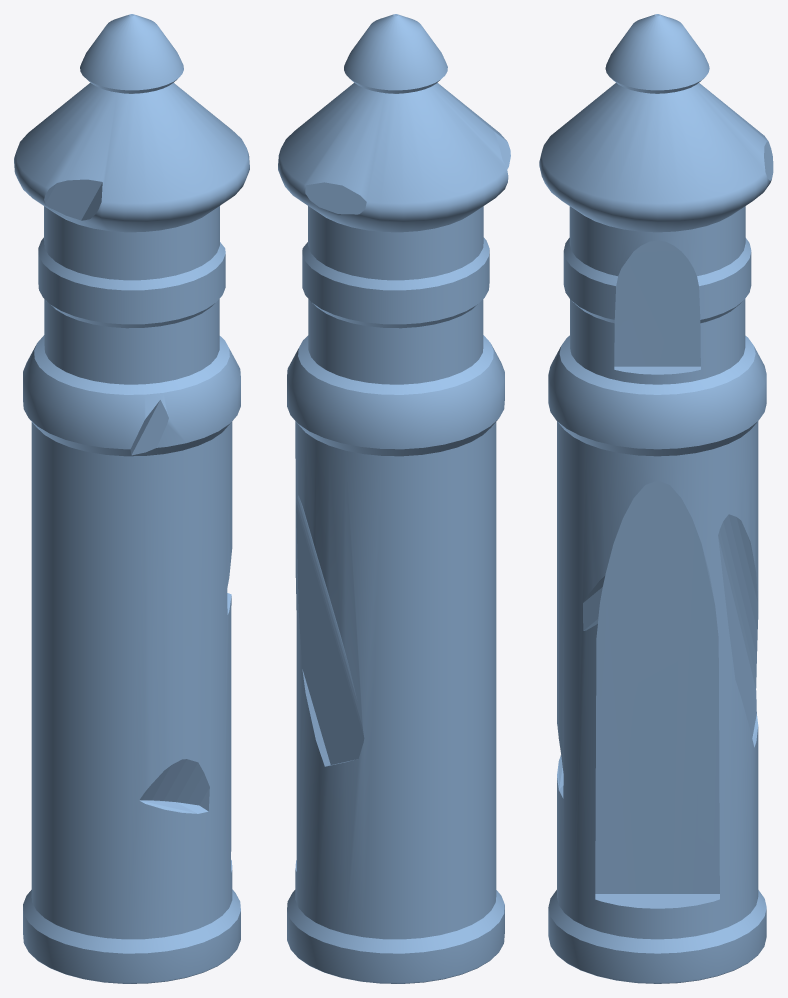
Rendered from wieza2.fbx.
3 renders of one model, left to right at view 1: azimuth 30°, elevation 25°; view 2: azimuth 150°, elevation 25°; view 3: azimuth 270°, elevation 25°, orthographic.
Visible parts, largest first — view 1: wieza2; view 2: wieza2; view 3: wieza2.
Boxes of the visible parts, x1,y1,x2,y2 form: wieza2: (14, 14, 249, 983); wieza2: (278, 14, 510, 983); wieza2: (539, 14, 773, 983).
Size of the model in its own units: 117 by 504 by 116.
